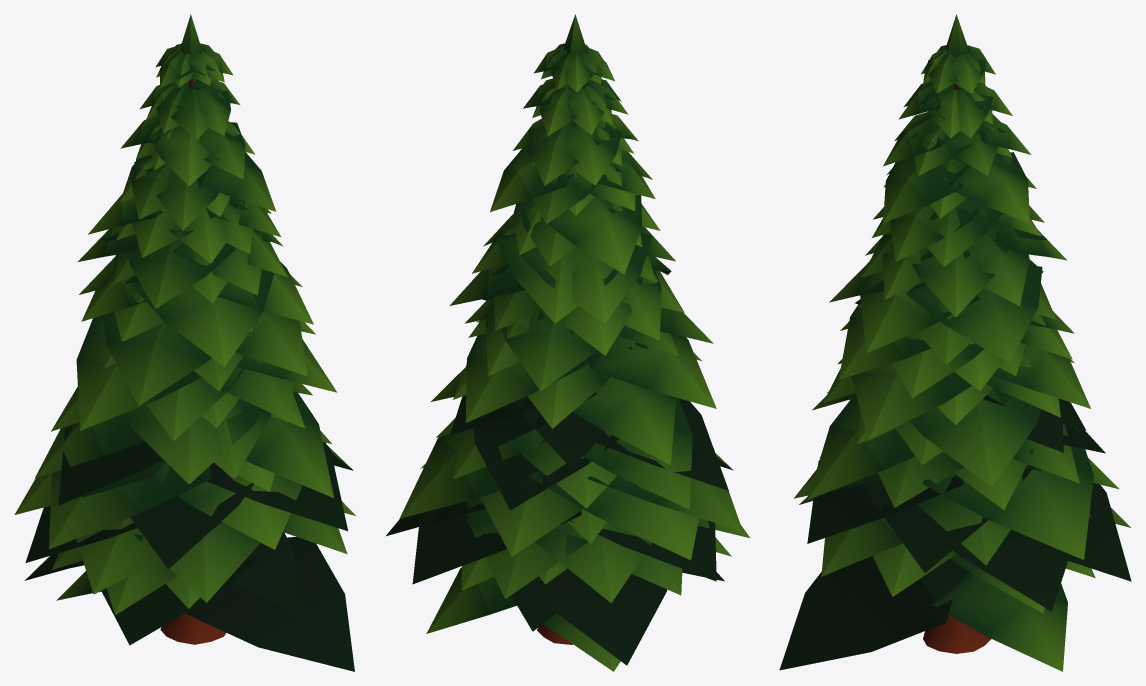
Rendered from western-redcedar.glb.
3 views of the same model, side by side, from view 1: azimuth 30°, elevation 25°; view 2: azimuth 150°, elevation 25°; view 3: azimuth 270°, elevation 25° (orthographic).
Parts seen in each view (by area): view 1: western-redcedar.Leaves, western-redcedar.Bark; view 2: western-redcedar.Leaves; view 3: western-redcedar.Leaves, western-redcedar.Bark.
Boxes of the visible parts, left/top/right/bottom form: western-redcedar.Leaves: left=14, top=14, right=355, bottom=671; western-redcedar.Bark: left=160, top=78, right=225, bottom=644; western-redcedar.Leaves: left=386, top=14, right=749, bottom=671; western-redcedar.Leaves: left=779, top=14, right=1131, bottom=671; western-redcedar.Bark: left=923, top=83, right=991, bottom=653.
Size of the model in its own units: 6.16 by 12 by 6.15.
